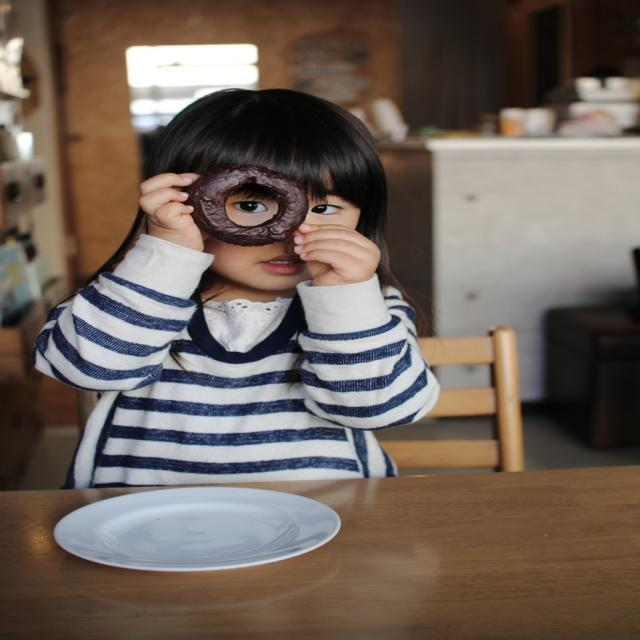non-organic waste: (45, 482, 350, 582)
